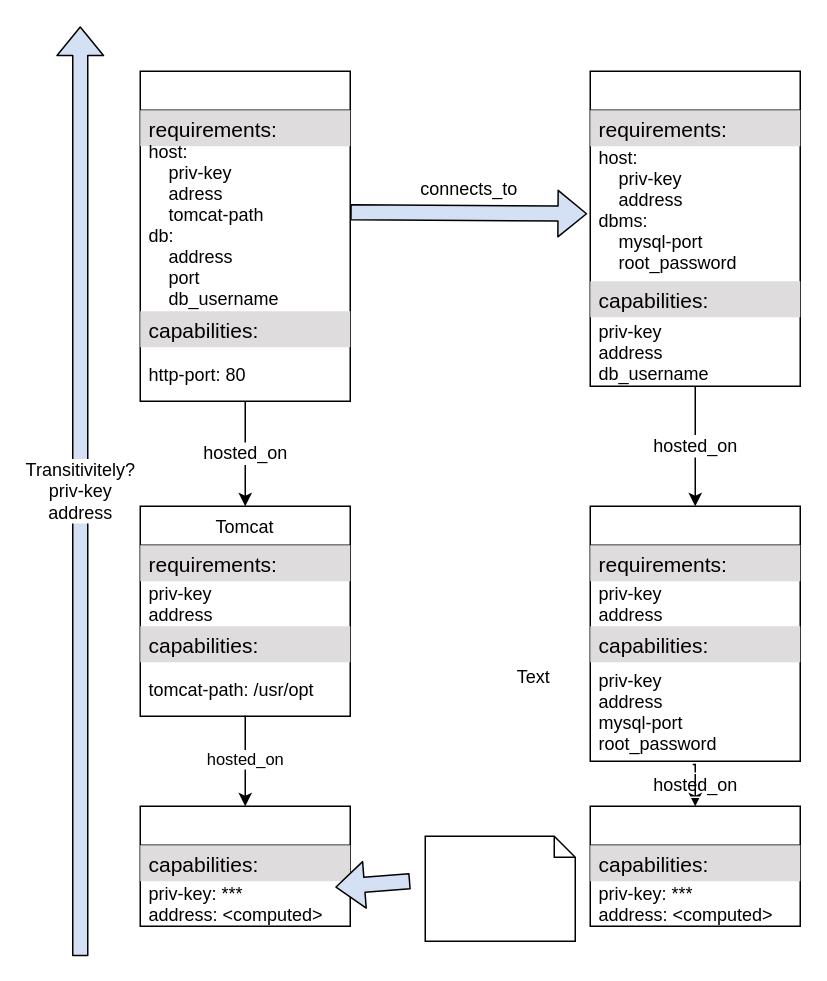
Some shapes in this 827 by 981 pixel diagram are drawn without their labels. Here are the shapes that lost their labels. From the top down, the box of each, then its label:
(139, 70, 350, 401): Pet-clinic
(589, 70, 800, 386): mysql-db
(589, 505, 800, 761): dbms
(139, 805, 350, 926): Ubuntu
(589, 805, 800, 926): Ubuntu2
(424, 835, 575, 941): Property vs. Capability?
